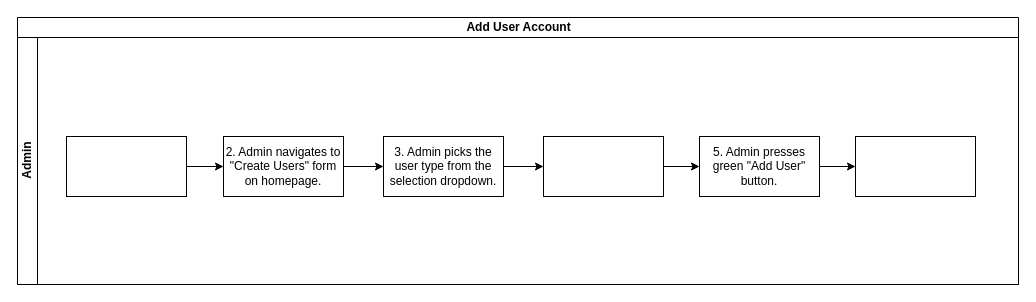
This 1036x302 diagram has some shape labels left out. Each missing label, with the centre of its shape:
"1. Successful admin login." belongs at [126,166].
"4. Admin enters entries into form fields." belongs at [603,166].
"6. Admin sees successful account creation message." belongs at [915,166].
